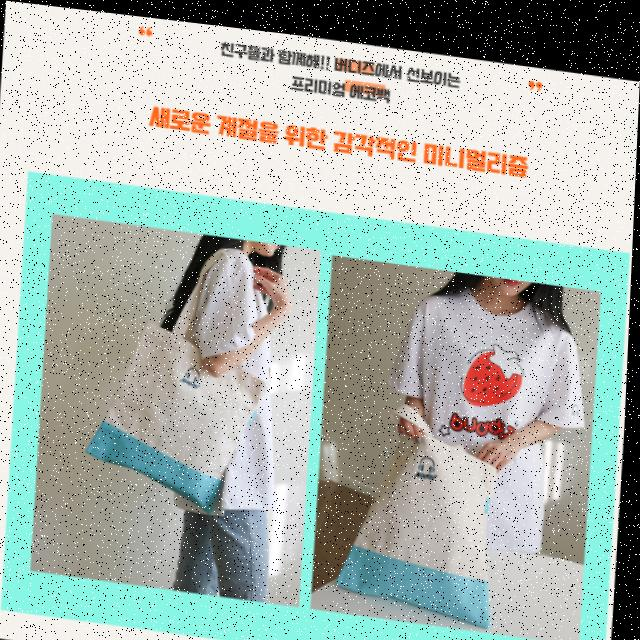ecobag: (89, 218, 284, 513), (335, 376, 517, 619)
